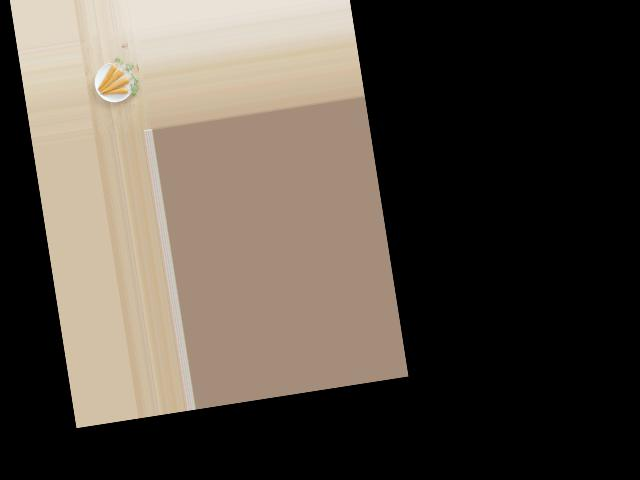carrot: (92, 62, 121, 89)
